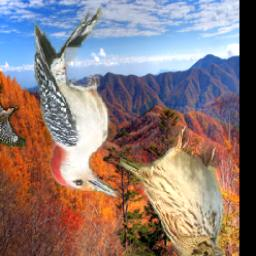Sparrow: (121, 126, 229, 256)
Woodpecker: (34, 8, 123, 198), (0, 83, 27, 147)
